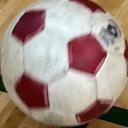Sports-Ball: (2, 1, 126, 123)
